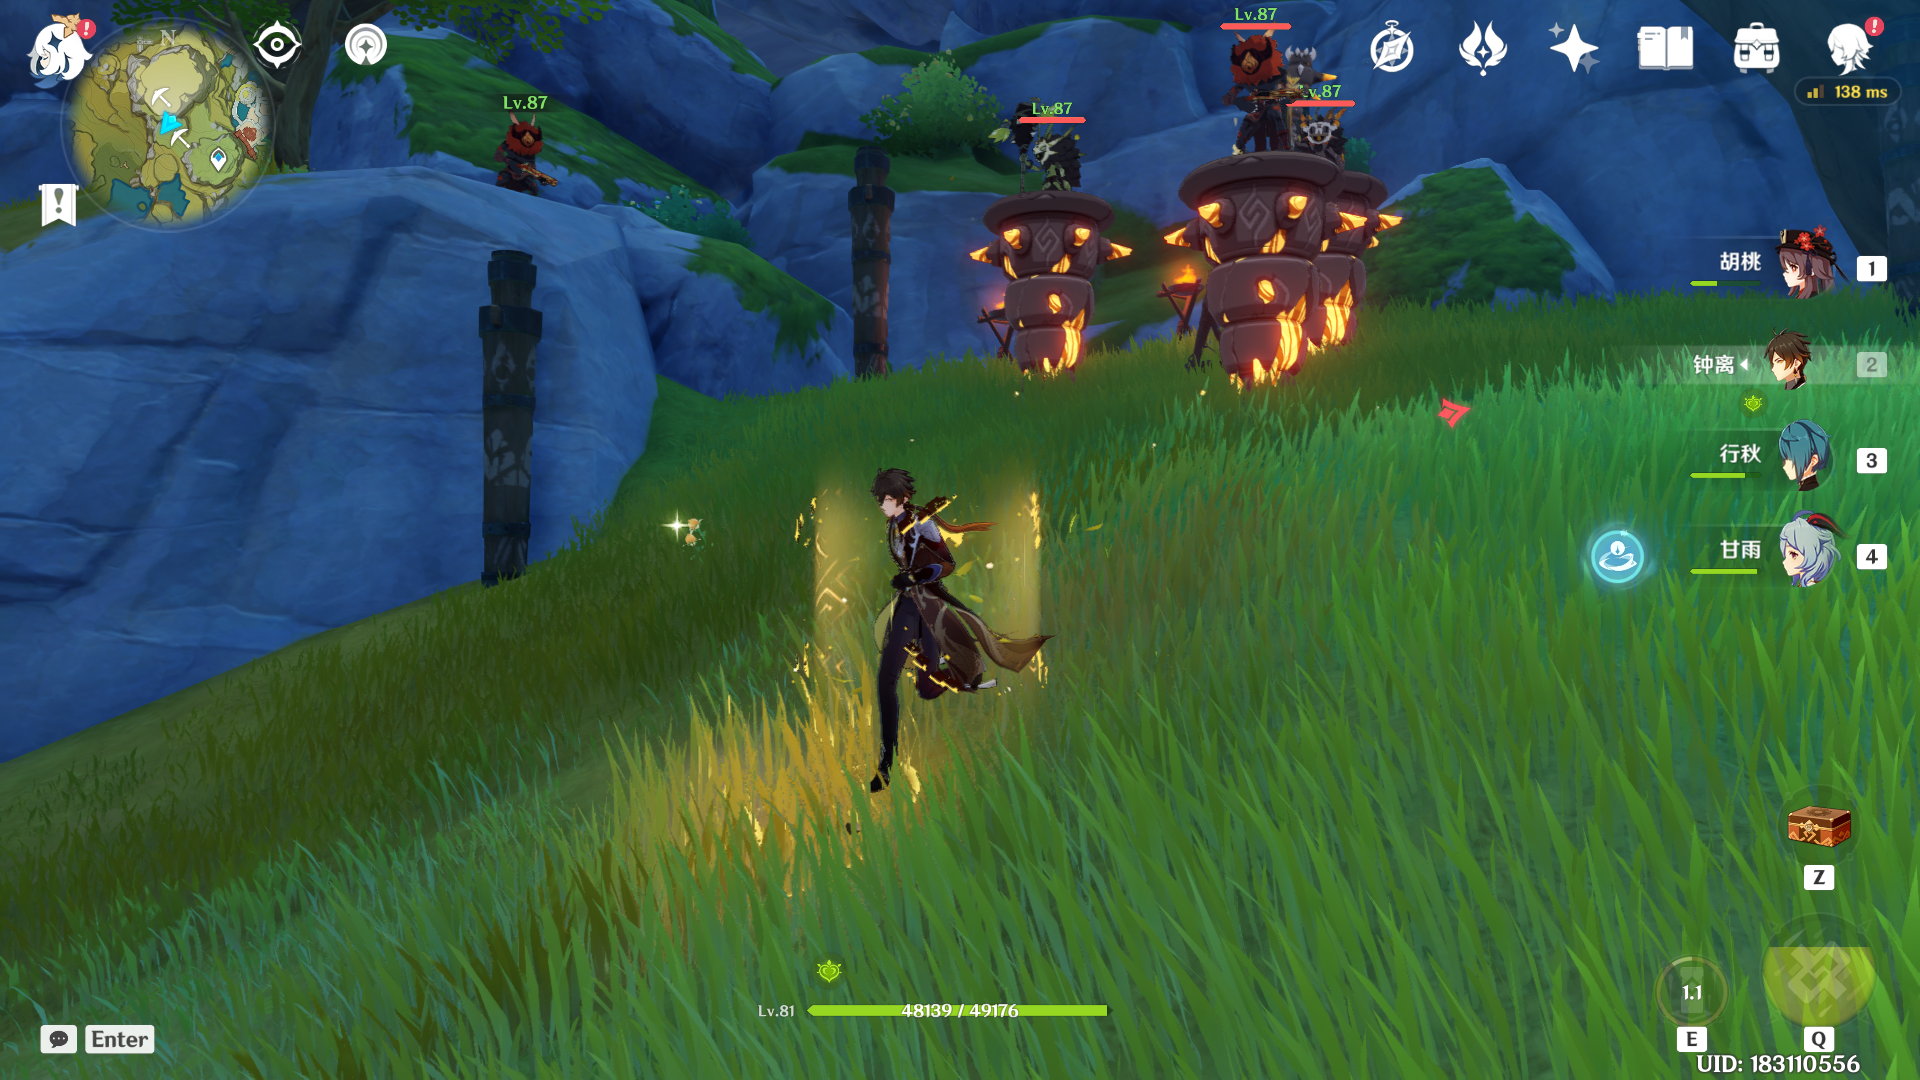character: (771, 400, 1063, 782)
hili: (465, 87, 597, 231), (1191, 20, 1302, 169), (1007, 96, 1112, 202), (1279, 66, 1365, 175)
